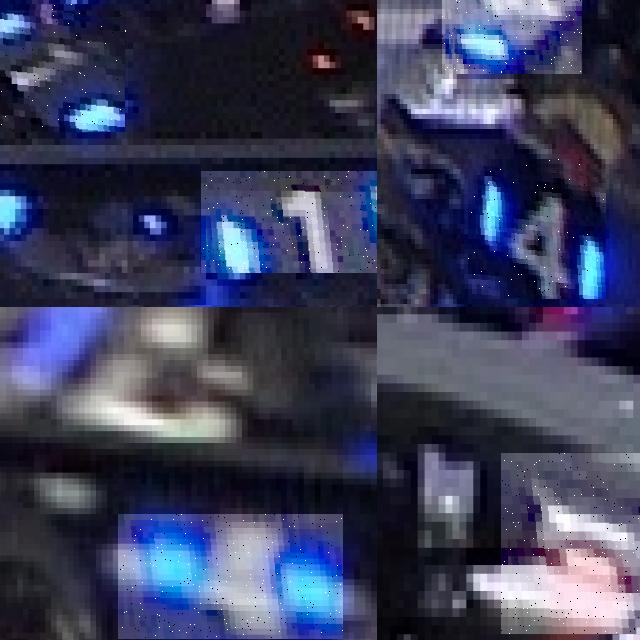B1: (200, 170, 377, 273), (0, 4, 127, 132)
B4: (118, 514, 343, 639), (468, 159, 606, 299), (441, 0, 582, 74)
R1: (501, 452, 640, 634)
